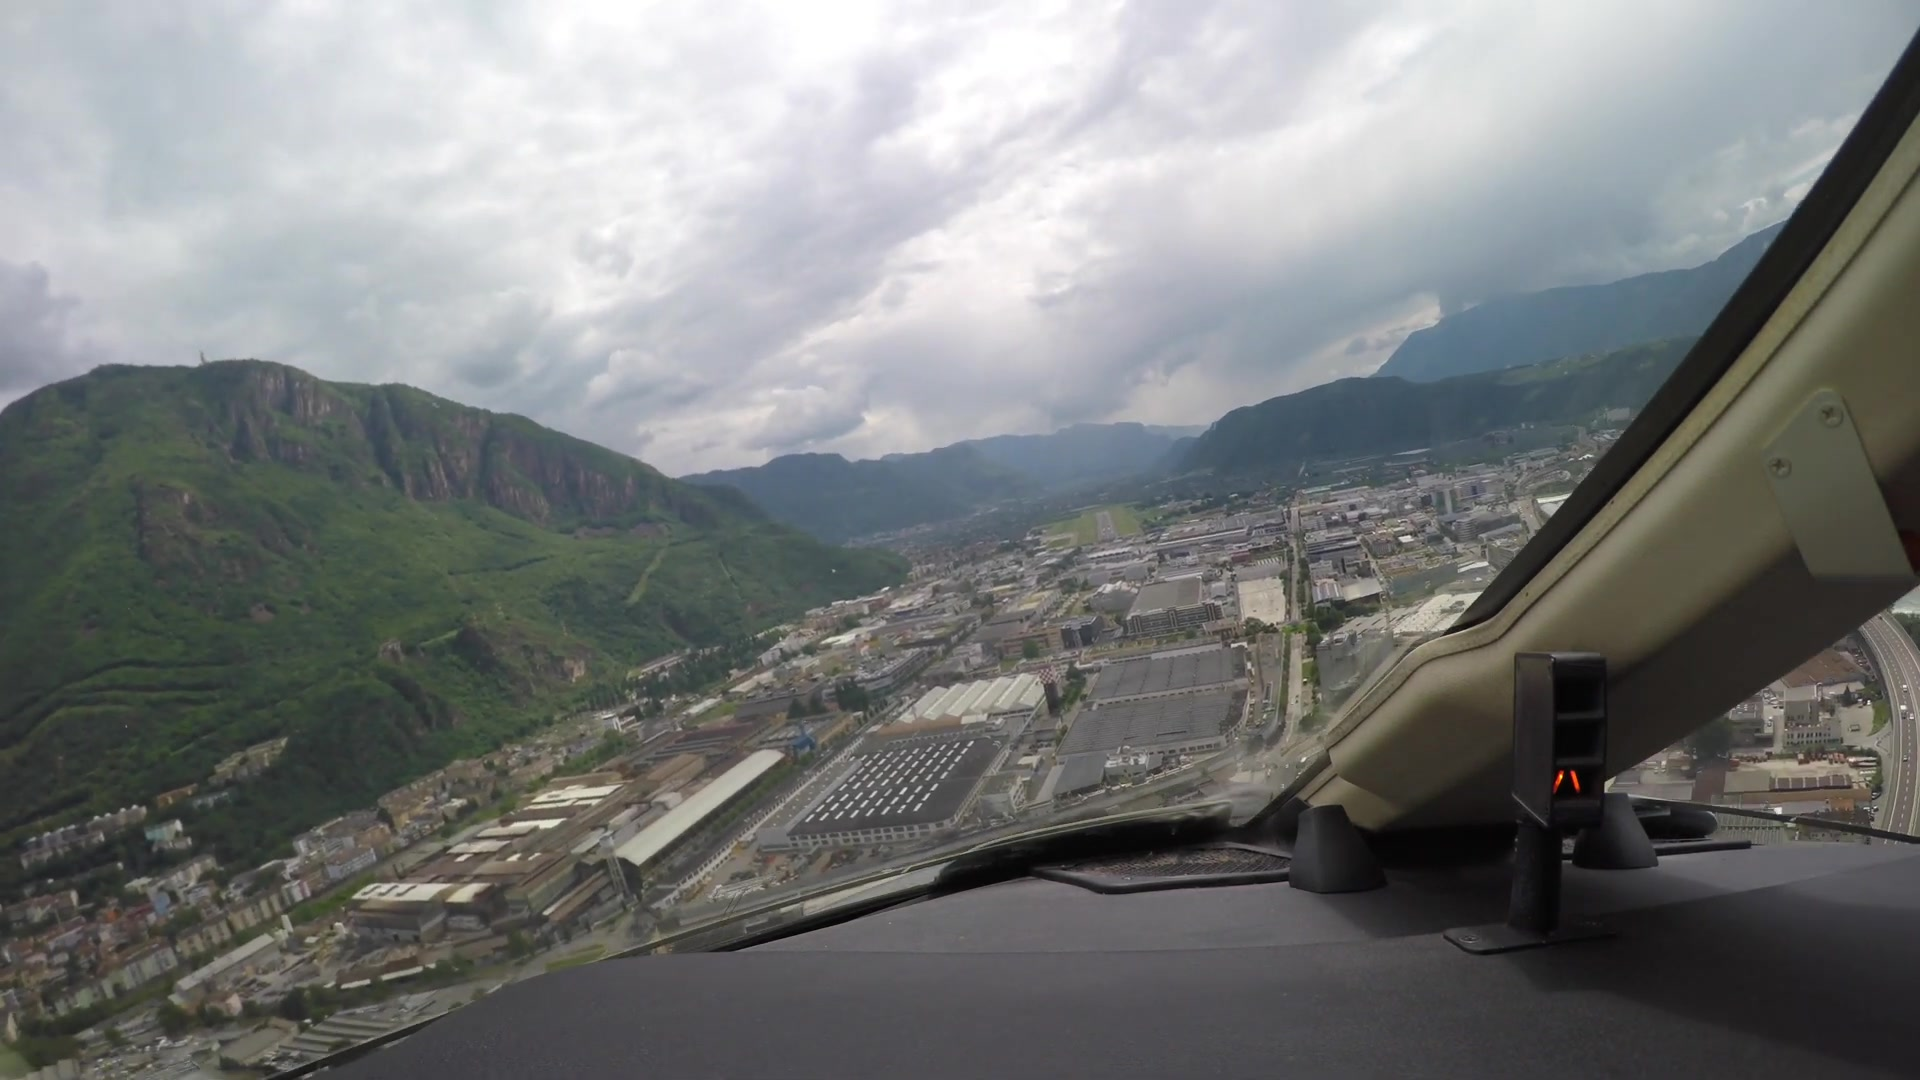runway: (1095, 510, 1116, 539)
